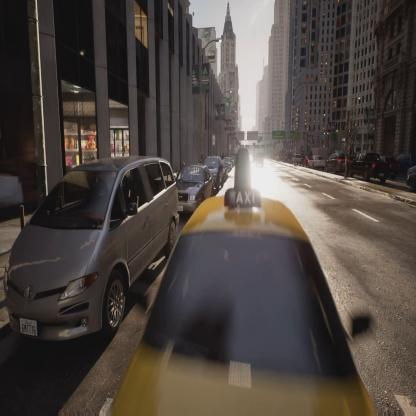License-Plate: (18, 314, 40, 340), (176, 205, 184, 213)
